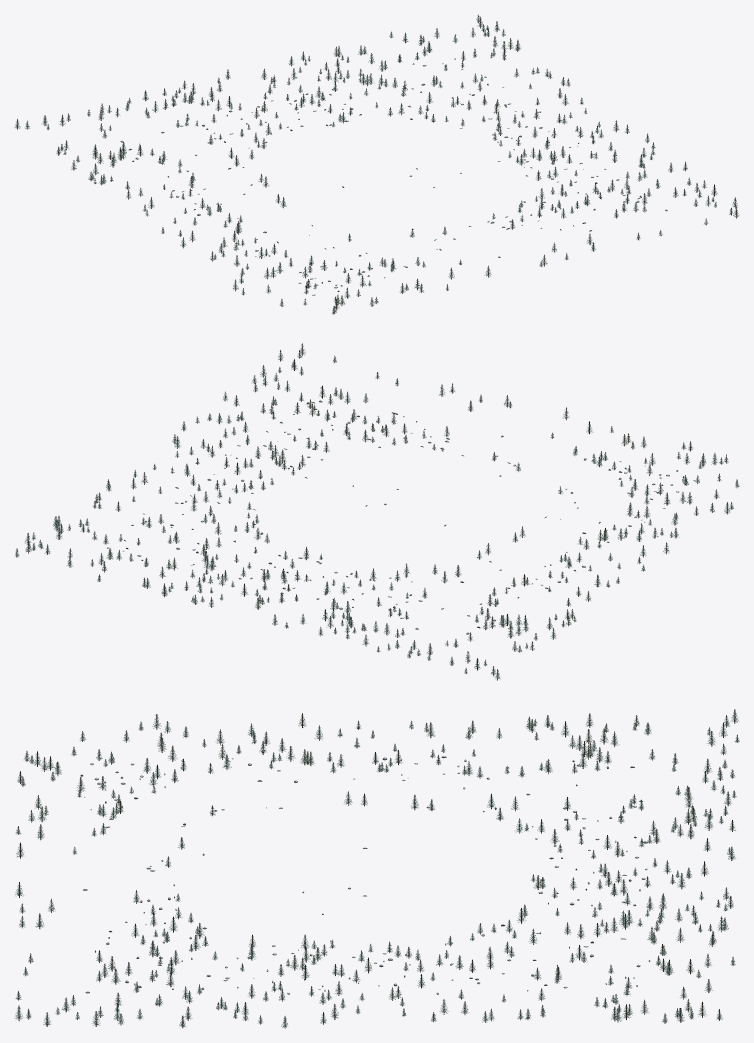
File: landscape.glb
3 views of the same model, one above another, from view 1: azimuth 30°, elevation 25°; view 2: azimuth 150°, elevation 25°; view 3: azimuth 270°, elevation 25° (orthographic). The views are drawn at different scales.
Visible parts, largest first — view 1: ENV_R5_Needles, ENV_R5_Bark, ENV_R5_Snow, ENV_R5_Rock; view 2: ENV_R5_Needles, ENV_R5_Bark, ENV_R5_Snow, ENV_R5_Rock; view 3: ENV_R5_Needles, ENV_R5_Bark, ENV_R5_Snow, ENV_R5_Rock.
Part boxes in pixels (x1=…): ENV_R5_Needles: x1=14, y1=15, x2=738, y2=313; ENV_R5_Bark: x1=17, y1=14, x2=737, y2=314; ENV_R5_Snow: x1=15, y1=17, x2=738, y2=312; ENV_R5_Rock: x1=120, y1=58, x2=667, y2=295; ENV_R5_Needles: x1=15, y1=344, x2=739, y2=679; ENV_R5_Bark: x1=16, y1=343, x2=738, y2=680; ENV_R5_Snow: x1=15, y1=345, x2=738, y2=678; ENV_R5_Rock: x1=107, y1=387, x2=696, y2=634; ENV_R5_Needles: x1=15, y1=711, x2=739, y2=1028; ENV_R5_Bark: x1=16, y1=709, x2=737, y2=1028; ENV_R5_Snow: x1=14, y1=712, x2=738, y2=1027; ENV_R5_Rock: x1=80, y1=756, x2=650, y2=994.
Bounding box in the file's own units: 747 × 34.53 × 752.
4 materials, 3 textured.
